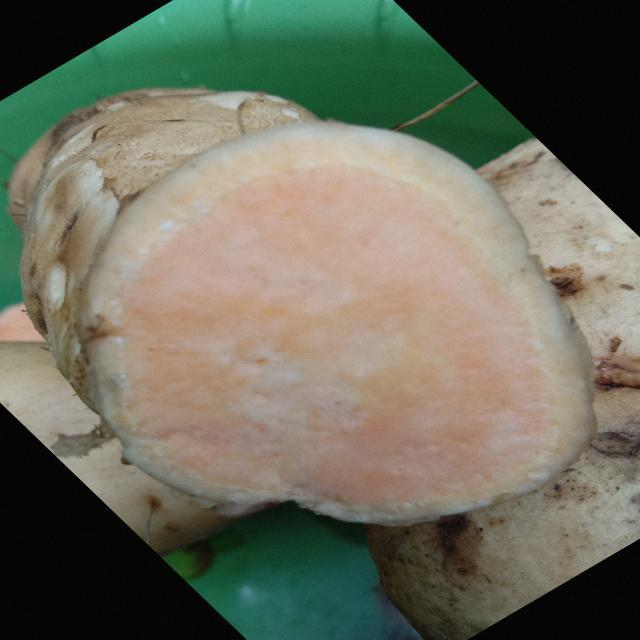Healthy Sweet Potato: (82, 122, 595, 525)
